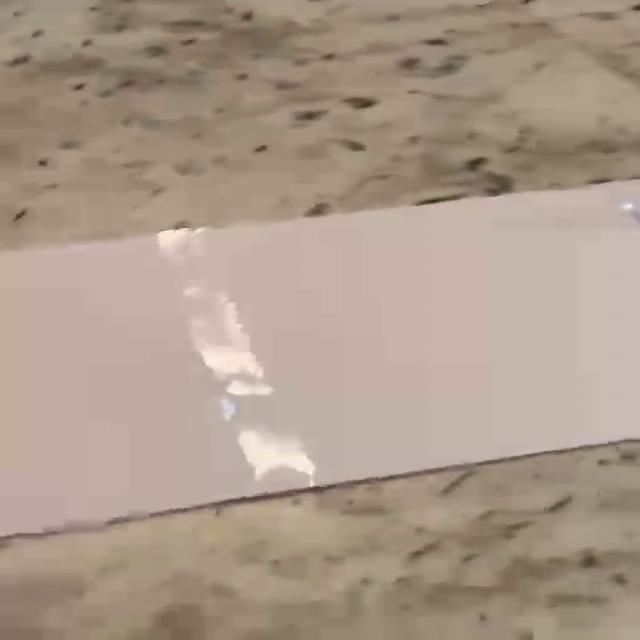road: (3, 181, 638, 534)
